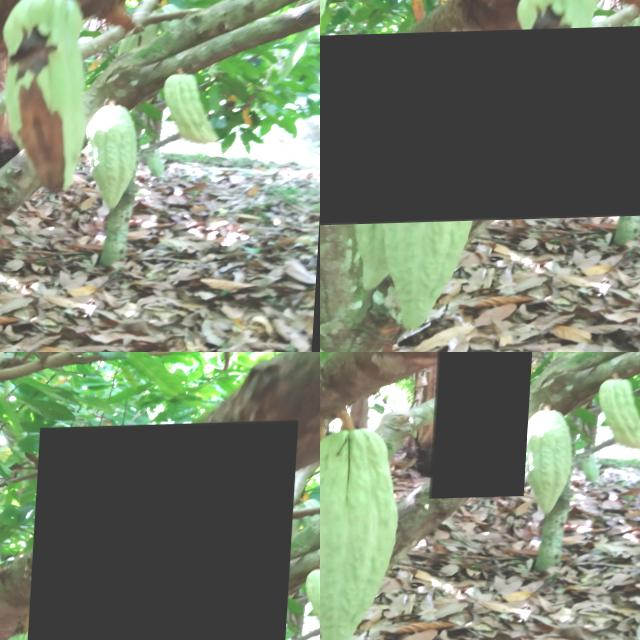Fitoftora: (320, 25, 640, 226), (25, 423, 300, 640), (434, 352, 537, 500)
Sana: (320, 429, 407, 640), (523, 410, 583, 515), (602, 376, 640, 454)
